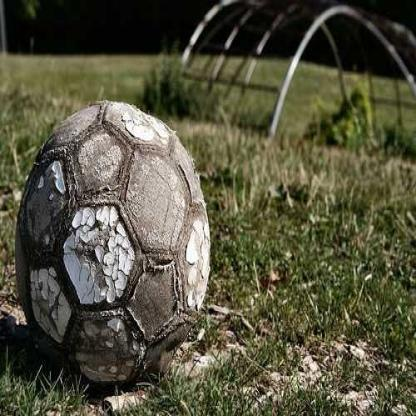ball: (15, 99, 211, 390)
